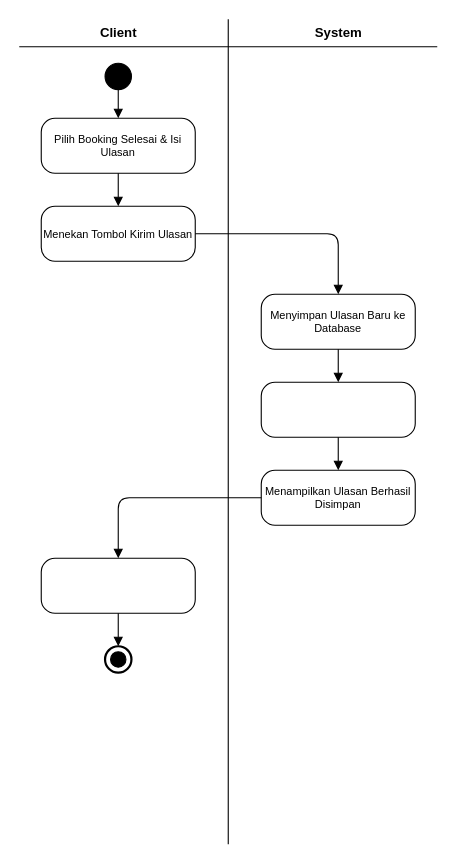
The diagram is 458 pixels wide and 865 high, and some of its shapes have lost their labels. The shapes that lost their labels are listed below. From the top down, each one's centre as x and y in pixels, then its label:
At point 337,409: "Menghitung Rata-rata Rating Lapangan".
At point 117,585: "Melihat Ulasan Tampil di Halaman Detail".
